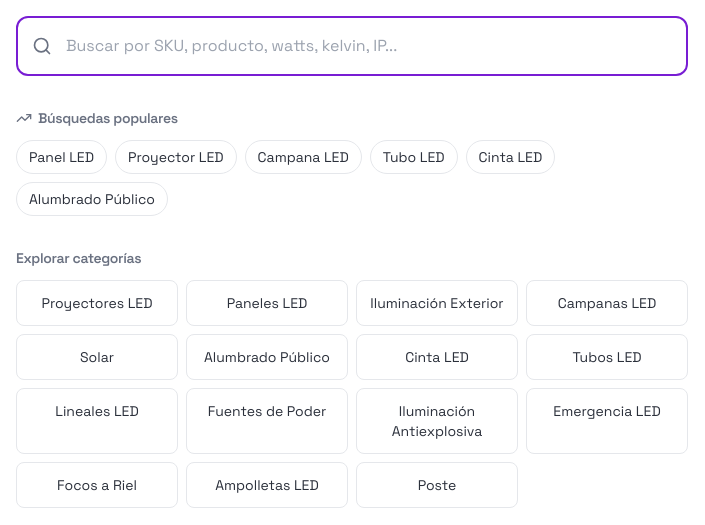
/buscar: accesibilidad › el campo y el botón para borrar tienen nombre; una sola región viva, vacía sin búsqueda
The image size is (705, 525).
Type "palabraquenoexiste" into the field named "Buscar productos".
click(352, 46); type("palabraquenoexiste")  # box [16,16,688,76]
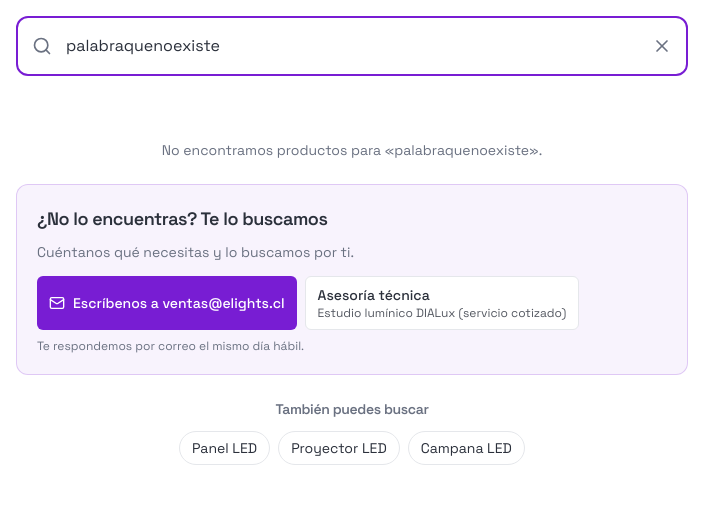
expect the number of messages is 1: met, box [162,141,542,159]
Click the button named "Borrar búsqueda".
click(662, 46)  # box [652,36,672,56]
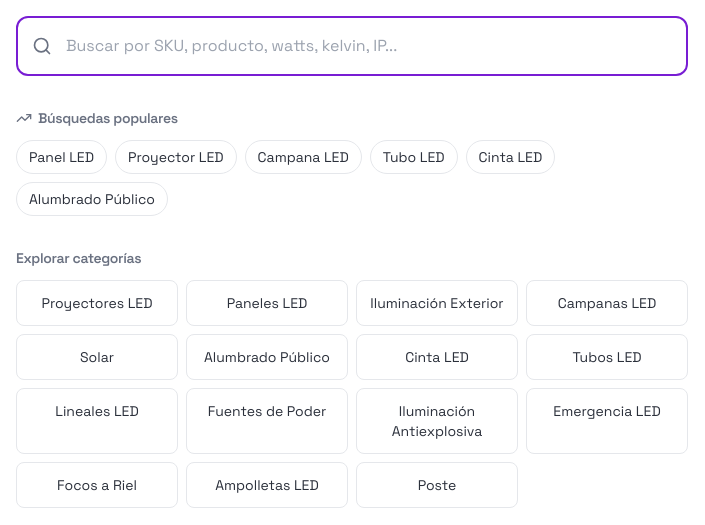
expect the field named "Buscar productos" is empty: met, box [16,16,688,76]
